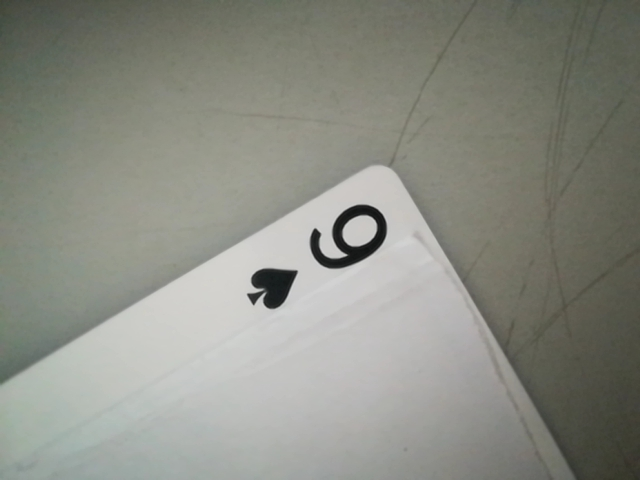ht 9: (230, 193, 415, 313)
